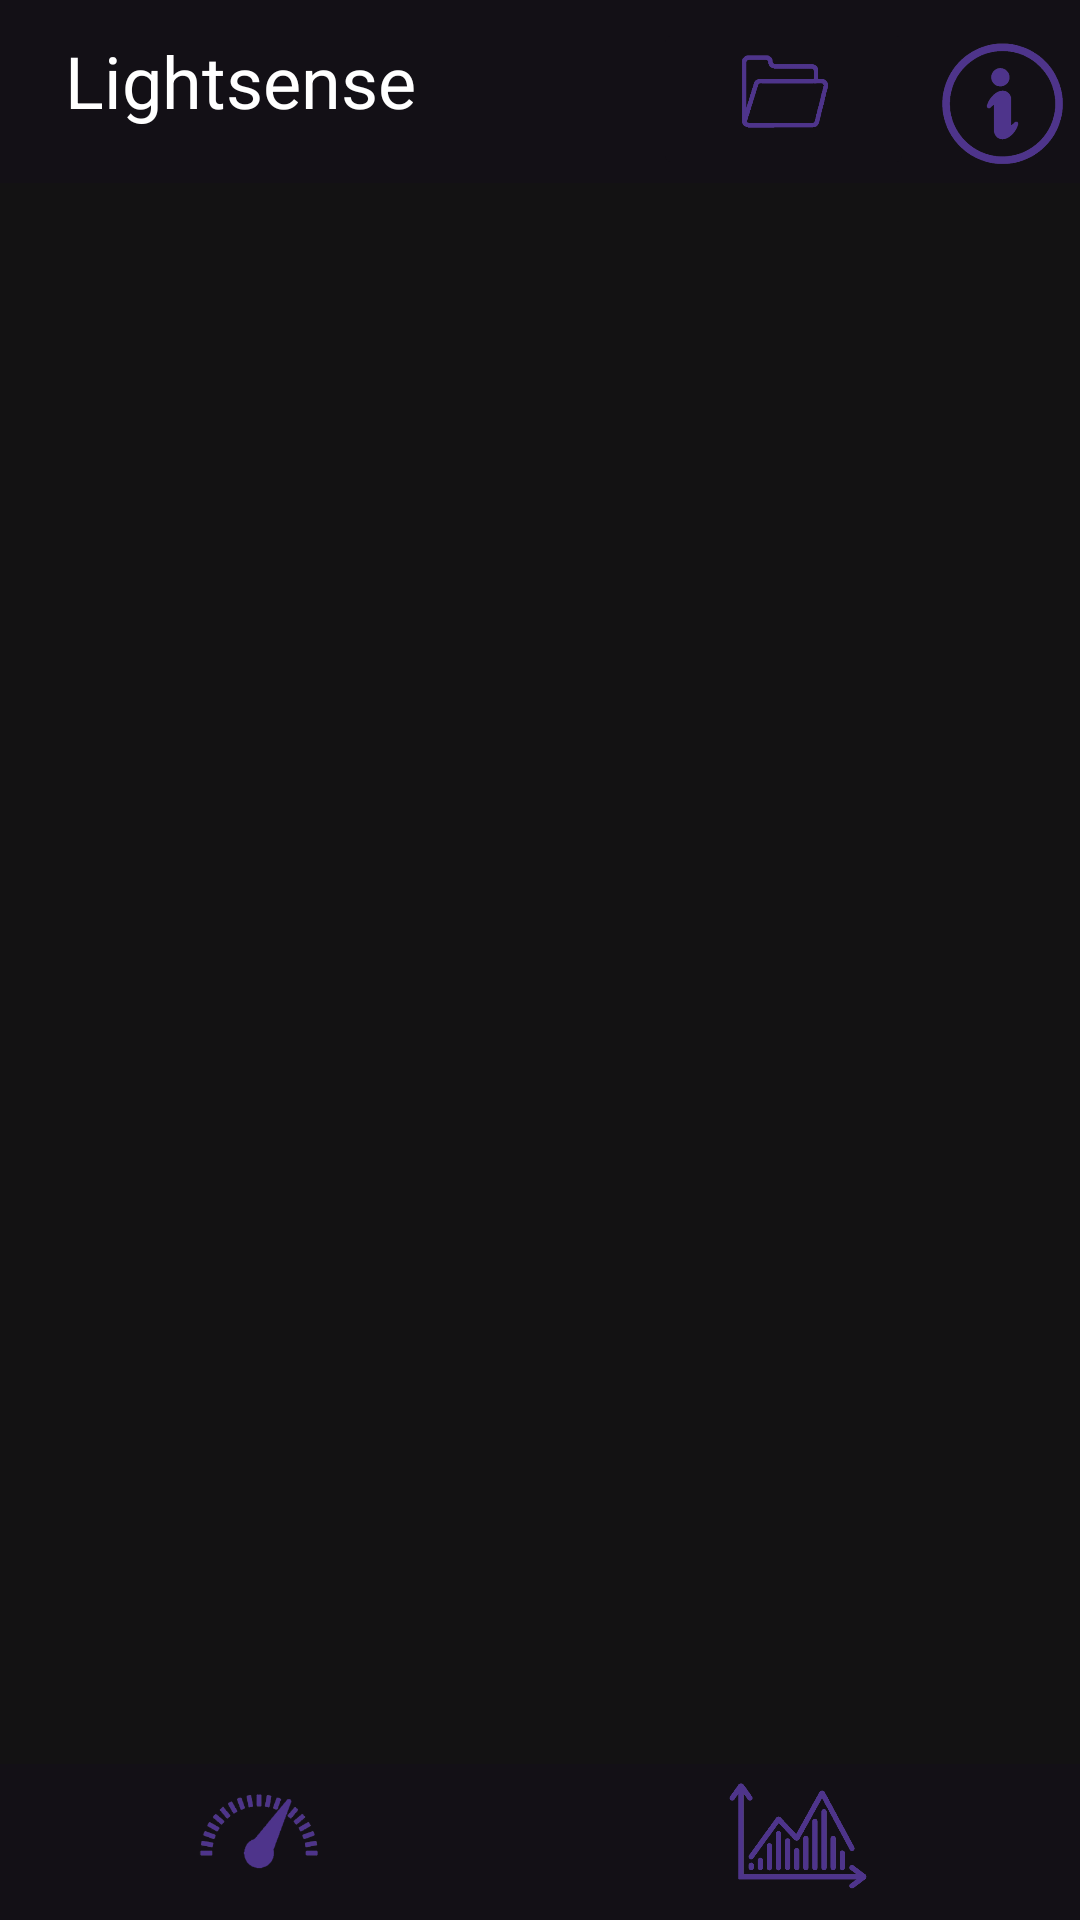

Point at icon controls on the screen. Image size 1080*1920, points as [x,y].
foldericon: [785,91]
informationicon: [1002,103]
